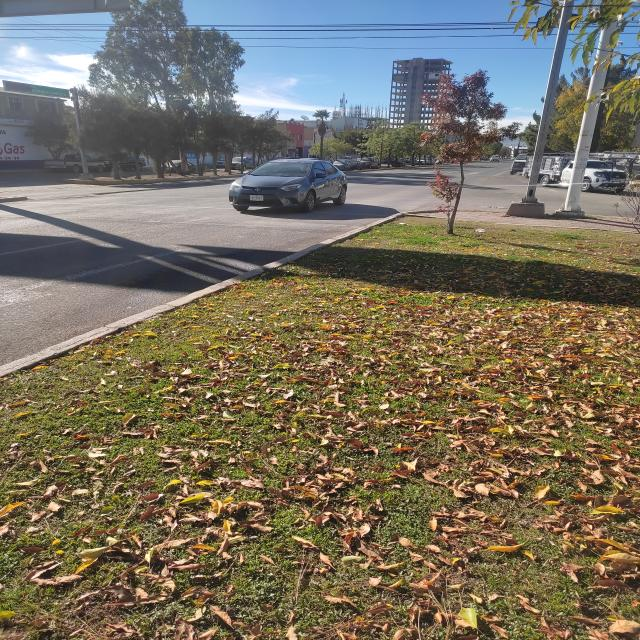Auto: (229, 141, 357, 222), (526, 151, 632, 196), (42, 147, 116, 179), (100, 149, 152, 178), (213, 153, 262, 176), (160, 157, 203, 180), (511, 145, 539, 179), (489, 153, 512, 167)
